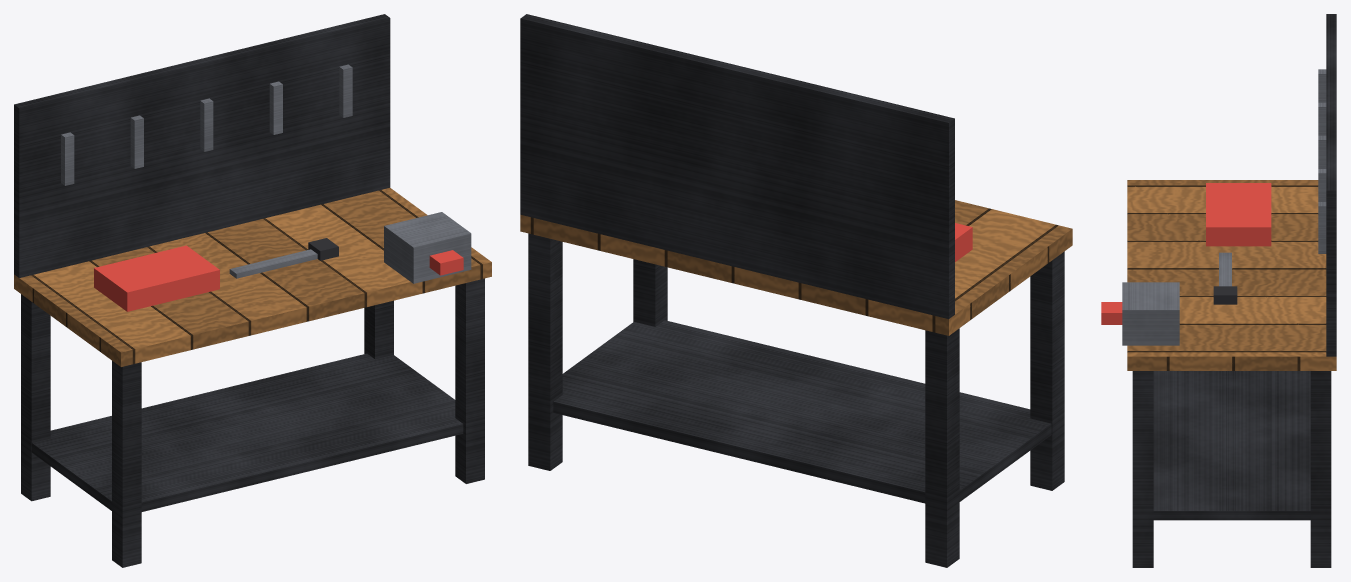
File: Table_Main.fbx
The picture shows the model from 3 angles, left to right: view 1: azimuth 30°, elevation 25°; view 2: azimuth 150°, elevation 25°; view 3: azimuth 270°, elevation 25°; orthographic projection. The views are drawn at different scales.
Visible parts, largest first — view 1: Table_Main; view 2: Table_Main; view 3: Table_Main.
Boxes of the visible parts, <box> form: Table_Main: <box>14,14,491,567</box>; Table_Main: <box>520,14,1072,567</box>; Table_Main: <box>1101,14,1336,567</box>.
Bounding box in the file's own units: 1.6 × 1.6 × 0.9.
Materials: 5 (3 with a texture image).
